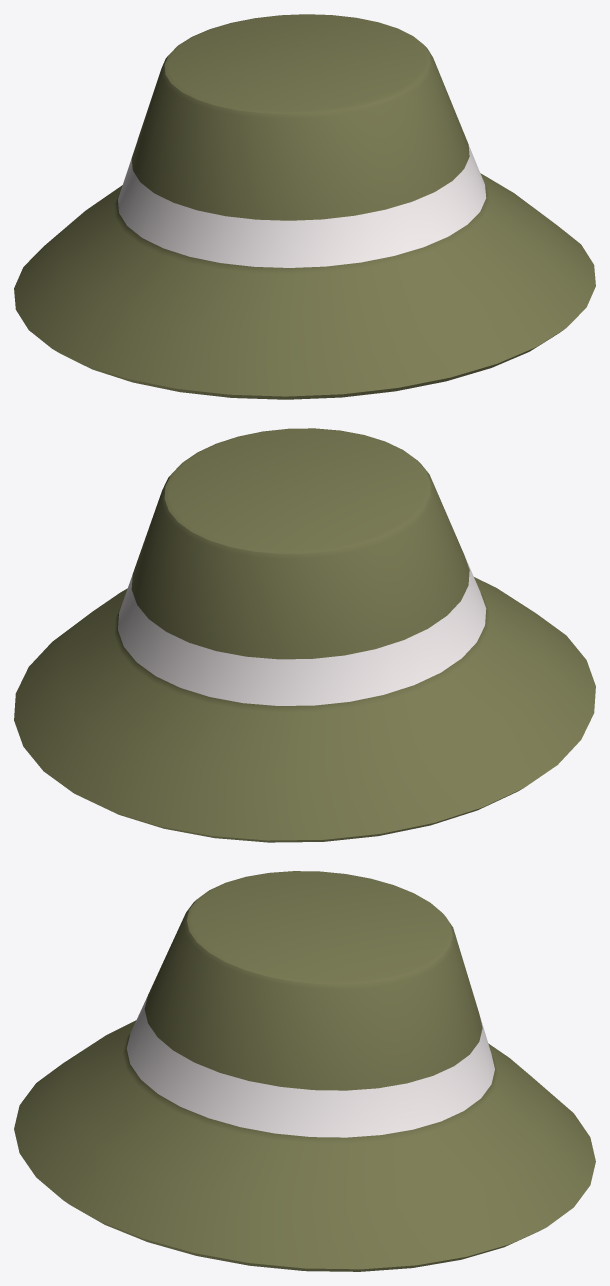
The model's file is hat 2.fbx.
The picture shows the model from 3 angles, top to bottom: view 1: azimuth 30°, elevation 25°; view 2: azimuth 150°, elevation 25°; view 3: azimuth 270°, elevation 25°; orthographic projection.
Visible parts, largest first — view 1: Circle; view 2: Circle; view 3: Circle.
Boxes of the visible parts, left/top/right/bottom form: Circle: left=14, top=14, right=595, bottom=399; Circle: left=14, top=428, right=595, bottom=842; Circle: left=14, top=871, right=595, bottom=1271.
Bounding box in the file's own units: 141 × 66.05 × 140.
